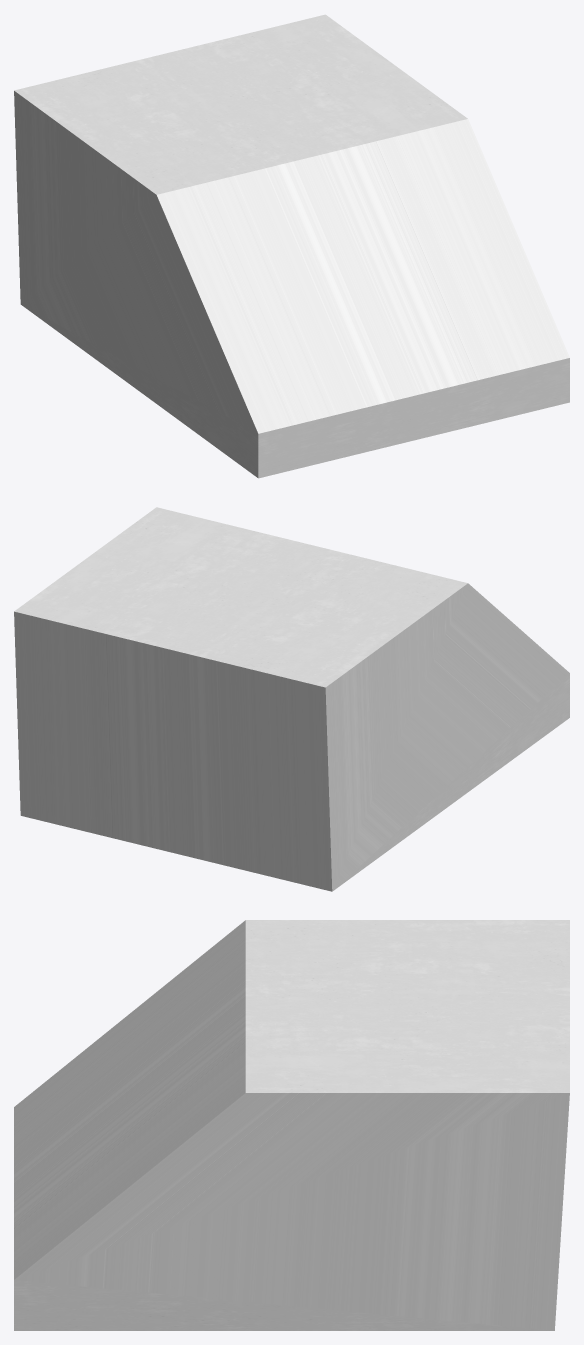
The model's file is si_landlight_a.DAE.
3 renders of one model, top to bottom at view 1: azimuth 30°, elevation 25°; view 2: azimuth 150°, elevation 25°; view 3: azimuth 270°, elevation 25°, orthographic. The views are drawn at different scales.
Parts seen in each view (by area): view 1: Colmesh-1; view 2: Colmesh-1; view 3: Colmesh-1.
Boxes of the visible parts, x1,y1,x2,y2 form: Colmesh-1: [14, 14, 569, 478]; Colmesh-1: [14, 507, 569, 891]; Colmesh-1: [14, 920, 569, 1330].
Bounding box in the file's own units: 85.37 × 116 × 54.74.
